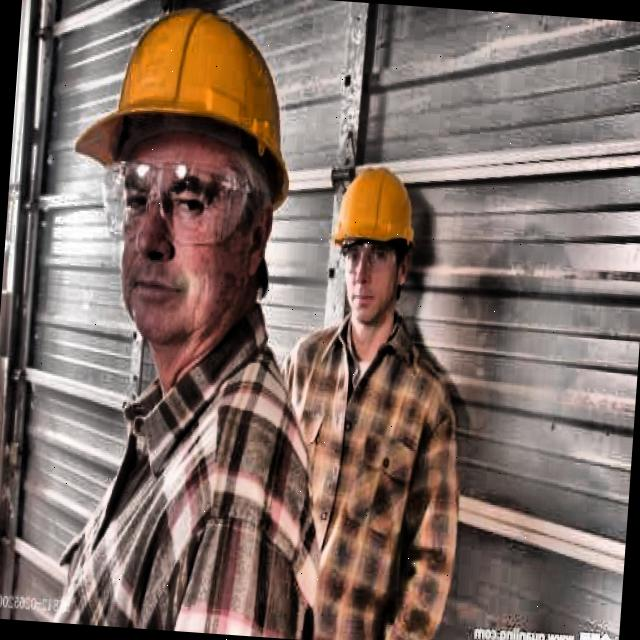helmet: (58, 0, 317, 382), (313, 136, 431, 352)
